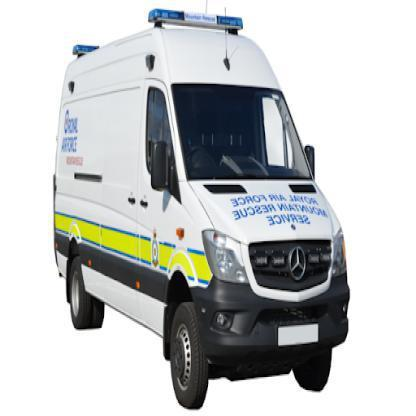Ambulance - v1 Ambulance last generate: (53, 6, 349, 402)
